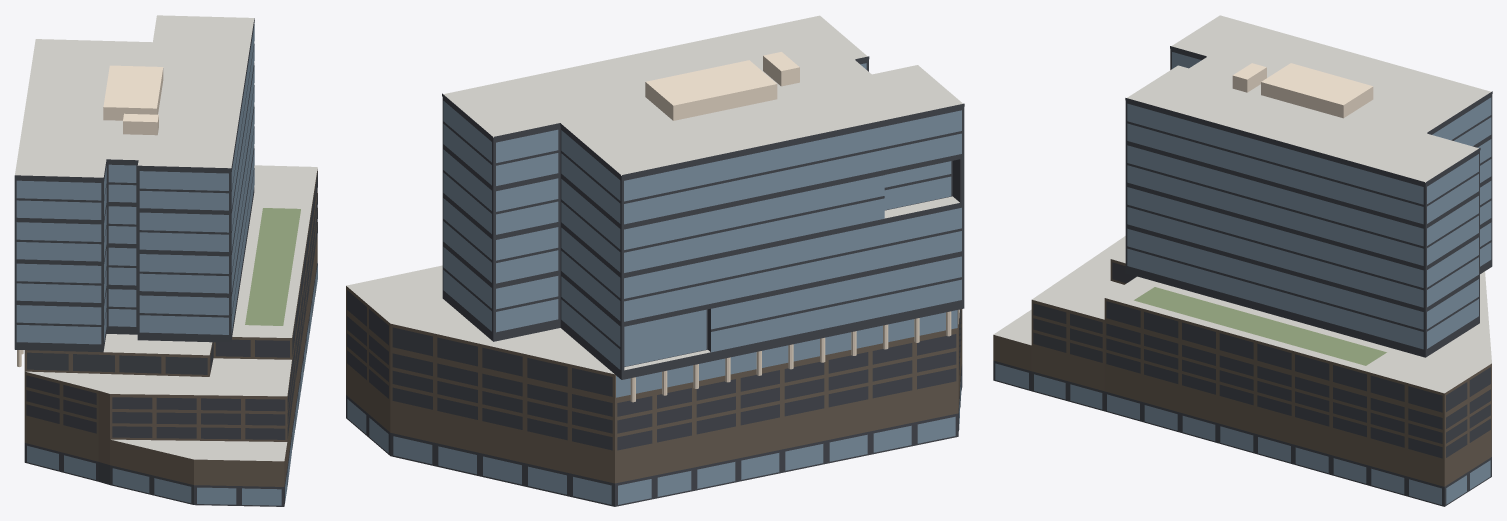
Rendered from detail.glb.
3 views of the same model, side by side, from view 1: azimuth 30°, elevation 25°; view 2: azimuth 150°, elevation 25°; view 3: azimuth 270°, elevation 25° (orthographic). The views are drawn at different scales.
Visible parts, largest first — view 1: the-line; view 2: the-line; view 3: the-line.
Boxes of the visible parts, x1,y1,x2,y2 form: the-line: (14, 15, 317, 506); the-line: (346, 15, 964, 506); the-line: (993, 15, 1492, 506).
Bounding box in the file's own units: 100 × 69 × 104.
